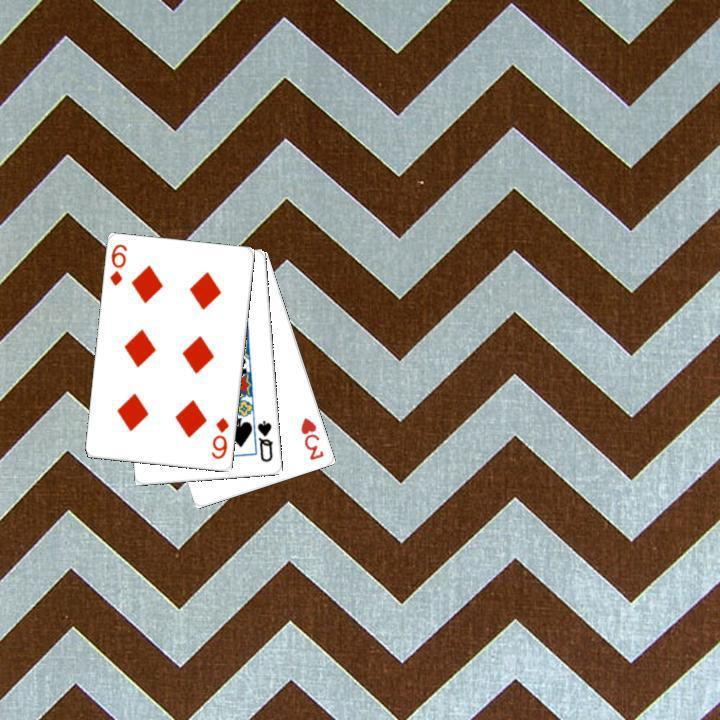3: (297, 413, 326, 463)
6: (207, 413, 231, 462), (106, 240, 129, 288)
Q: (254, 416, 275, 464)
